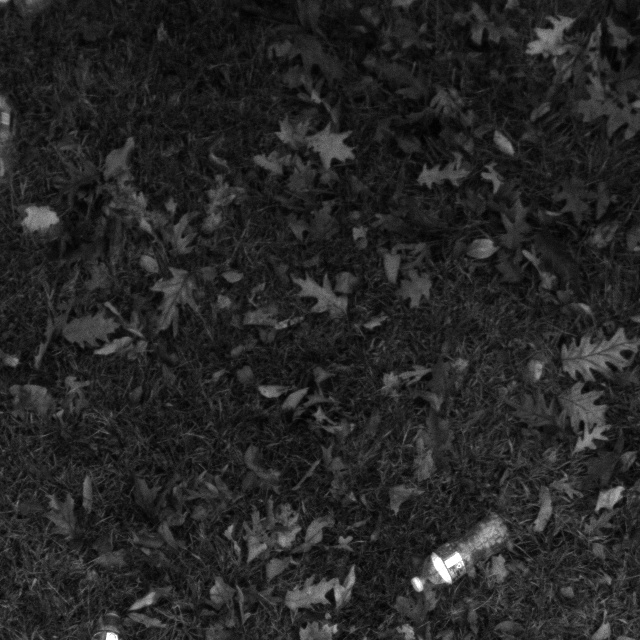bottle: (395, 511, 518, 600)
